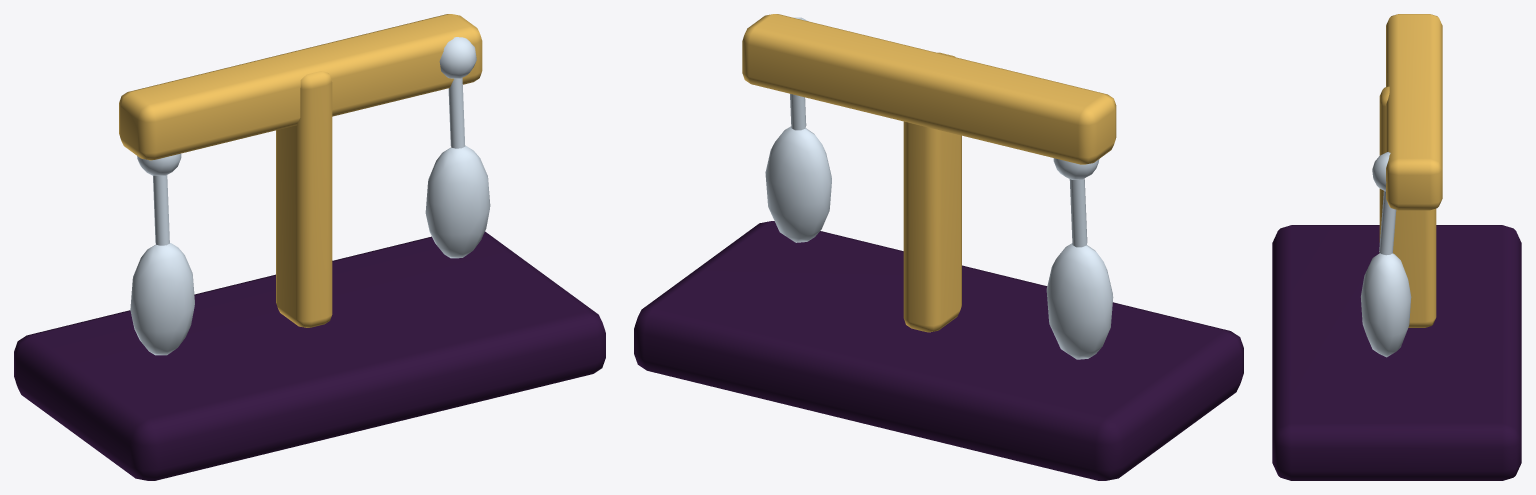
File: rain.acc.silver-drops.lod1.glb
The picture shows the model from 3 angles, left to right: view 1: azimuth 30°, elevation 25°; view 2: azimuth 150°, elevation 25°; view 3: azimuth 270°, elevation 25°; orthographic projection. The views are drawn at different scales.
Parts seen in each view (by area): view 1: jewellery_pad, jewellery_crossbar, jewellery_support, Fit.Item.silver-drops.Drop1, Fit.Item.silver-drops.Drop0, Fit.Item.silver-drops.Stud0, Fit.Item.silver-drops.Chain1, Fit.Item.silver-drops.Chain0, Fit.Item.silver-drops.Stud1; view 2: jewellery_pad, jewellery_crossbar, jewellery_support, Fit.Item.silver-drops.Drop0, Fit.Item.silver-drops.Drop1, Fit.Item.silver-drops.Chain1, Fit.Item.silver-drops.Stud1; view 3: jewellery_pad, jewellery_crossbar, jewellery_support, Fit.Item.silver-drops.Drop0, Fit.Item.silver-drops.Chain0, Fit.Item.silver-drops.Stud0.
Part boxes in pixels (box(x1,y1,x2,y2)): jewellery_pad: box(14, 231, 605, 480); jewellery_crossbar: box(119, 14, 482, 160); jewellery_support: box(276, 71, 332, 327); Fit.Item.silver-drops.Drop1: box(130, 243, 194, 355); Fit.Item.silver-drops.Drop0: box(425, 146, 490, 258); Fit.Item.silver-drops.Stud0: box(439, 37, 476, 78); Fit.Item.silver-drops.Chain1: box(153, 175, 169, 245); Fit.Item.silver-drops.Chain0: box(448, 78, 465, 148); Fit.Item.silver-drops.Stud1: box(137, 153, 181, 175); jewellery_pad: box(634, 221, 1243, 480); jewellery_crossbar: box(742, 14, 1116, 164); jewellery_support: box(903, 52, 961, 332); Fit.Item.silver-drops.Drop0: box(765, 126, 831, 242); Fit.Item.silver-drops.Drop1: box(1046, 243, 1113, 359); Fit.Item.silver-drops.Chain1: box(1069, 178, 1087, 247); Fit.Item.silver-drops.Stud1: box(1053, 158, 1099, 179); jewellery_pad: box(1272, 225, 1521, 480); jewellery_crossbar: box(1386, 14, 1442, 210); jewellery_support: box(1379, 86, 1436, 327); Fit.Item.silver-drops.Drop0: box(1361, 253, 1411, 357); Fit.Item.silver-drops.Chain0: box(1379, 191, 1396, 255); Fit.Item.silver-drops.Stud0: box(1372, 152, 1390, 191).
Bounding box in the file's own units: 0.68 × 0.4386 × 0.3355.
